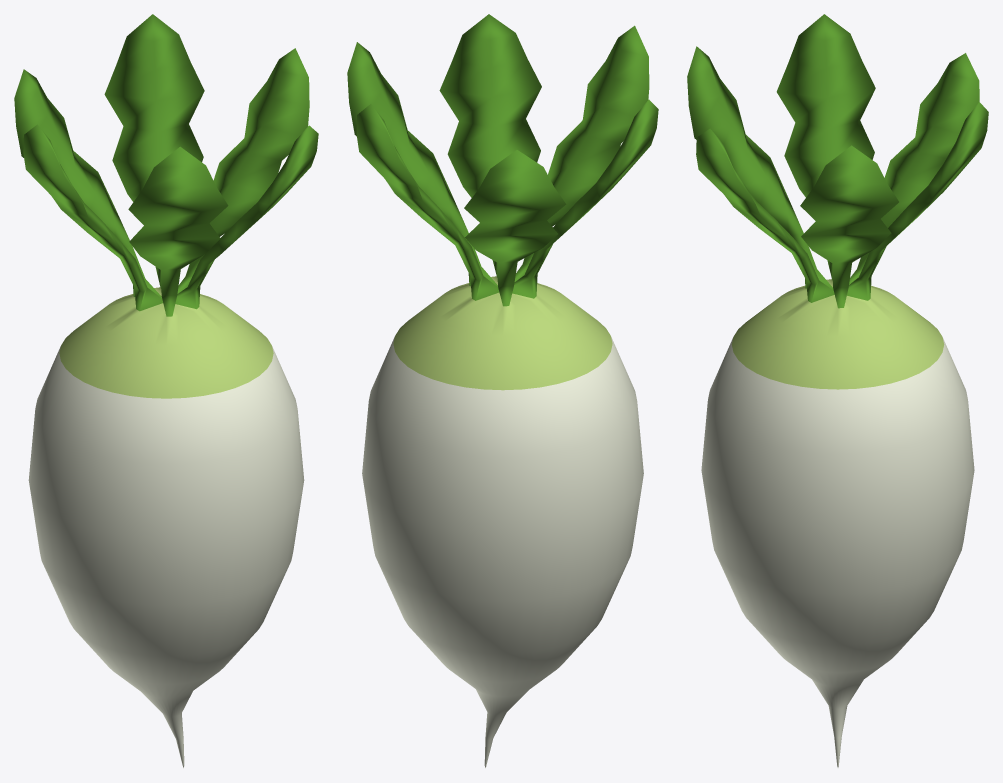
Rendered from NEW_RECOVERY_062_LOD0.glb.
3 renders of one model, left to right at view 1: azimuth 30°, elevation 25°; view 2: azimuth 150°, elevation 25°; view 3: azimuth 270°, elevation 25°, orthographic. The views are drawn at different scales.
Parts seen in each view (by area): view 1: Whole_Radish; view 2: Whole_Radish; view 3: Whole_Radish.
Part boxes in pixels (box(x1,y1,x2,y2)): Whole_Radish: box(14, 14, 318, 768); Whole_Radish: box(347, 14, 658, 768); Whole_Radish: box(687, 14, 988, 767).
Size of the model in its own units: 0.7197 by 1.75 by 0.696.
